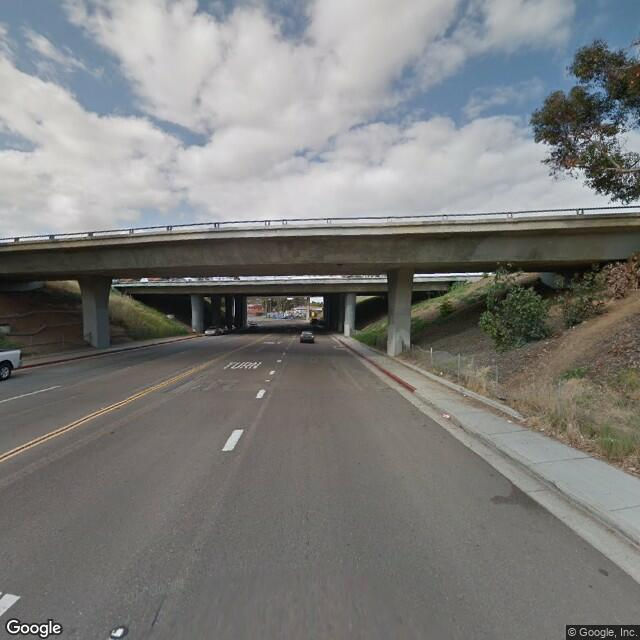litter: (439, 409, 454, 421)
